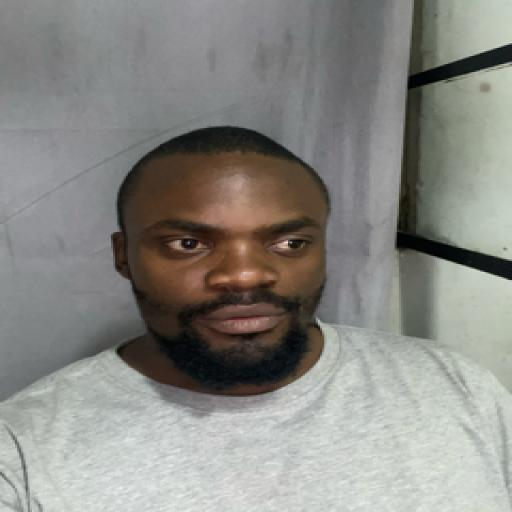JEANLUC: (110, 128, 348, 403)
